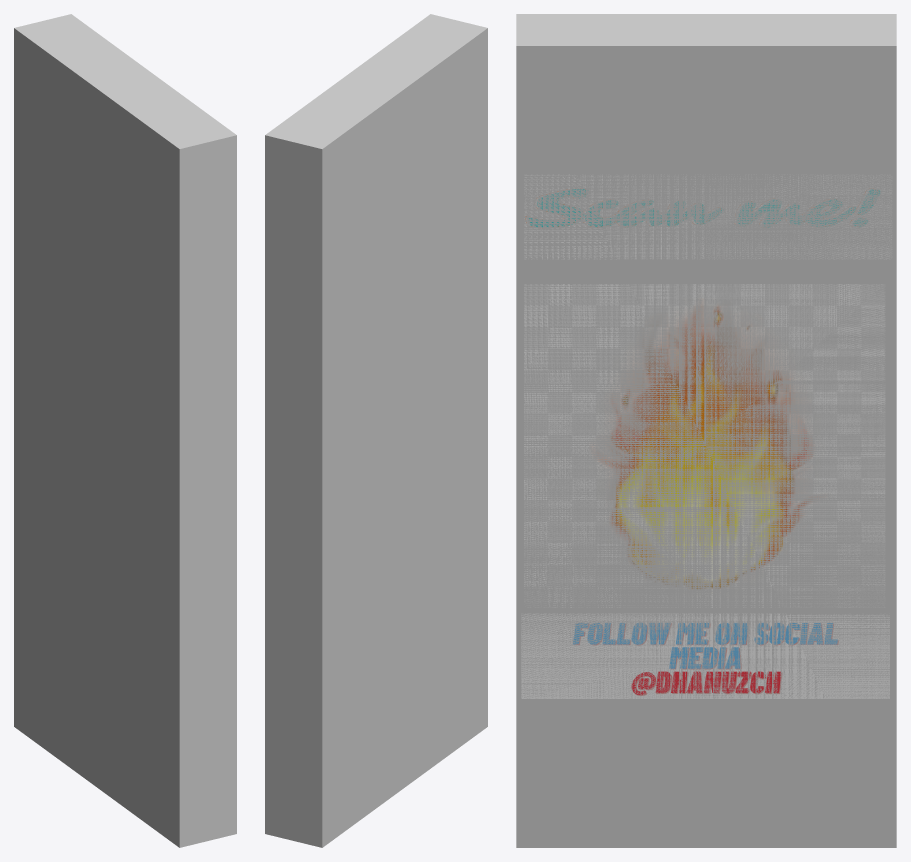
The model's file is qr_wall.dae.
3 views of the same model, side by side, from view 1: azimuth 30°, elevation 25°; view 2: azimuth 150°, elevation 25°; view 3: azimuth 270°, elevation 25° (orthographic). The views are drawn at different scales.
Parts seen in each view (by area): view 1: SketchUp (×2); view 2: SketchUp (×2); view 3: SketchUp (×2), image_0, image_2, image_1.
Part boxes in pixels (x1,y1,x2,y2): SketchUp (×2): [14, 14, 236, 847]; SketchUp (×2): [265, 14, 487, 847]; SketchUp (×2): [516, 14, 896, 847]; image_0: [524, 284, 885, 607]; image_2: [521, 613, 889, 698]; image_1: [524, 174, 892, 259].
Bounding box in the file's own units: 6.5 × 32.48 × 75.61.
Materials: 4 (3 with a texture image).
